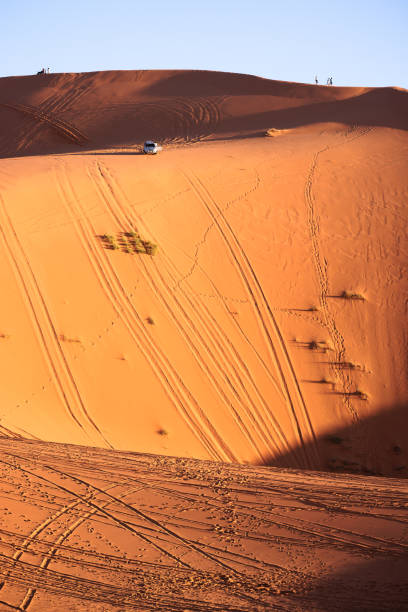vehicle_track: (58, 169, 233, 459), (183, 171, 319, 466), (139, 252, 289, 453), (1, 453, 240, 576), (0, 194, 108, 445), (108, 260, 236, 460), (141, 262, 261, 458), (0, 453, 189, 566), (46, 466, 238, 572), (304, 126, 372, 421), (100, 96, 222, 143), (12, 499, 82, 560), (0, 103, 87, 145), (39, 508, 98, 569), (36, 75, 88, 116)
